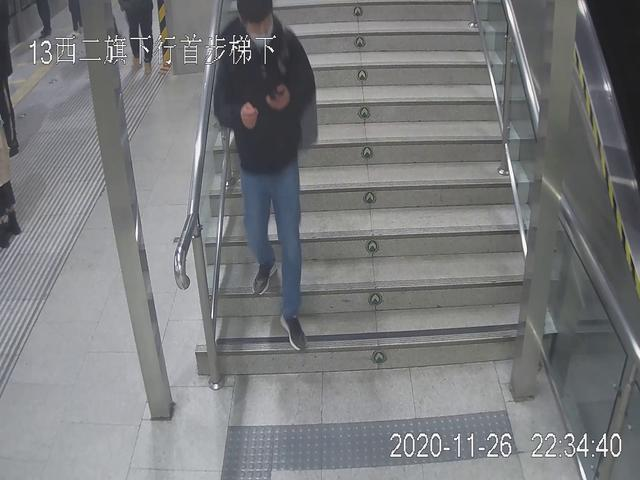person: (214, 1, 319, 352)
